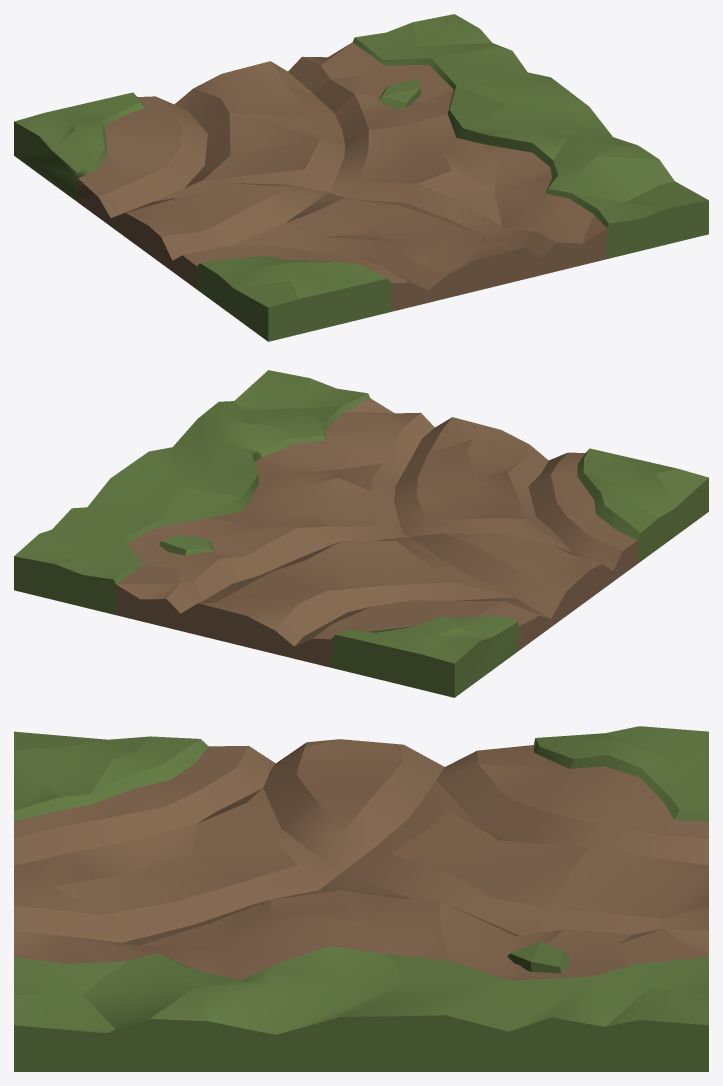
Rendered from Ground_Road_Crossroads_L.glb.
3 renders of one model, top to bottom at view 1: azimuth 30°, elevation 25°; view 2: azimuth 150°, elevation 25°; view 3: azimuth 270°, elevation 25°, orthographic. The views are drawn at different scales.
Visible parts, largest first — view 1: Ground_Road_Crossroads_L; view 2: Ground_Road_Crossroads_L; view 3: Ground_Road_Crossroads_L.
Boxes of the visible parts, left/top/right/bottom form: Ground_Road_Crossroads_L: left=14, top=14, right=708, bottom=341; Ground_Road_Crossroads_L: left=14, top=370, right=708, bottom=697; Ground_Road_Crossroads_L: left=14, top=726, right=708, bottom=1071.
Size of the model in its own units: 1.47 by 0.1341 by 1.47.
